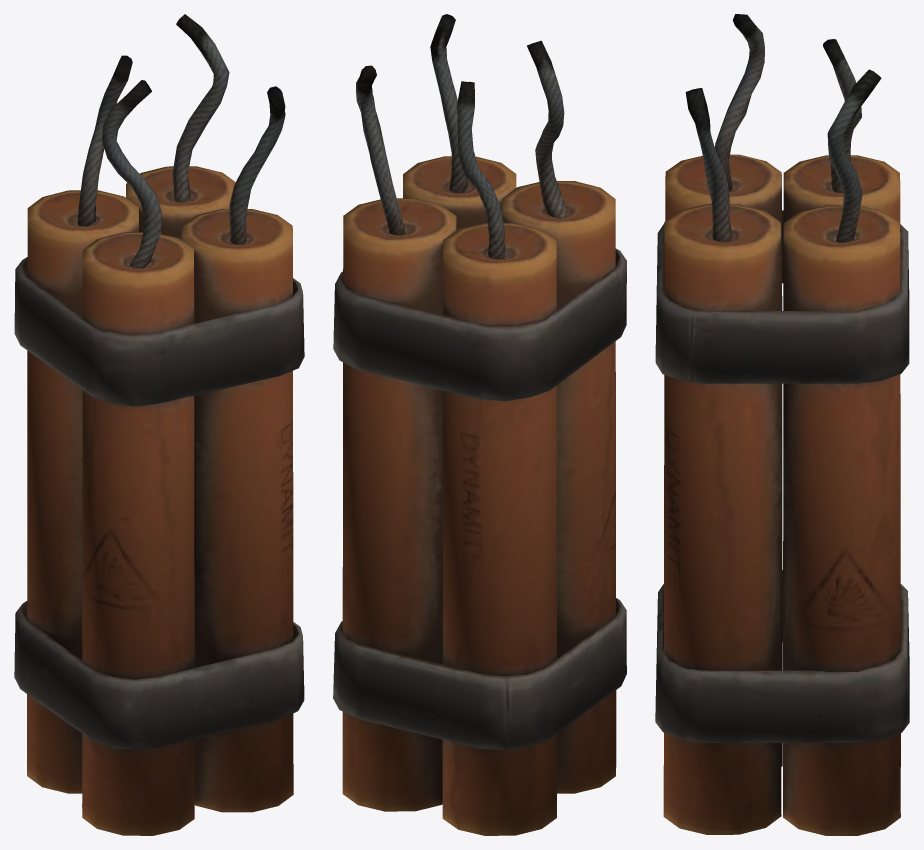
Rendered from dynamite.glb.
The picture shows the model from 3 angles, left to right: view 1: azimuth 30°, elevation 25°; view 2: azimuth 150°, elevation 25°; view 3: azimuth 270°, elevation 25°; orthographic projection. The views are drawn at different scales.
Parts seen in each view (by area): view 1: dynapickup; view 2: dynapickup; view 3: dynapickup.
Boxes of the visible parts, left/top/right/bottom form: dynapickup: left=14, top=14, right=304, bottom=835; dynapickup: left=333, top=14, right=626, bottom=835; dynapickup: left=655, top=14, right=909, bottom=835.
Size of the model in its own units: 61.92 by 207 by 63.11.
Materials: 1 (1 with a texture image).
